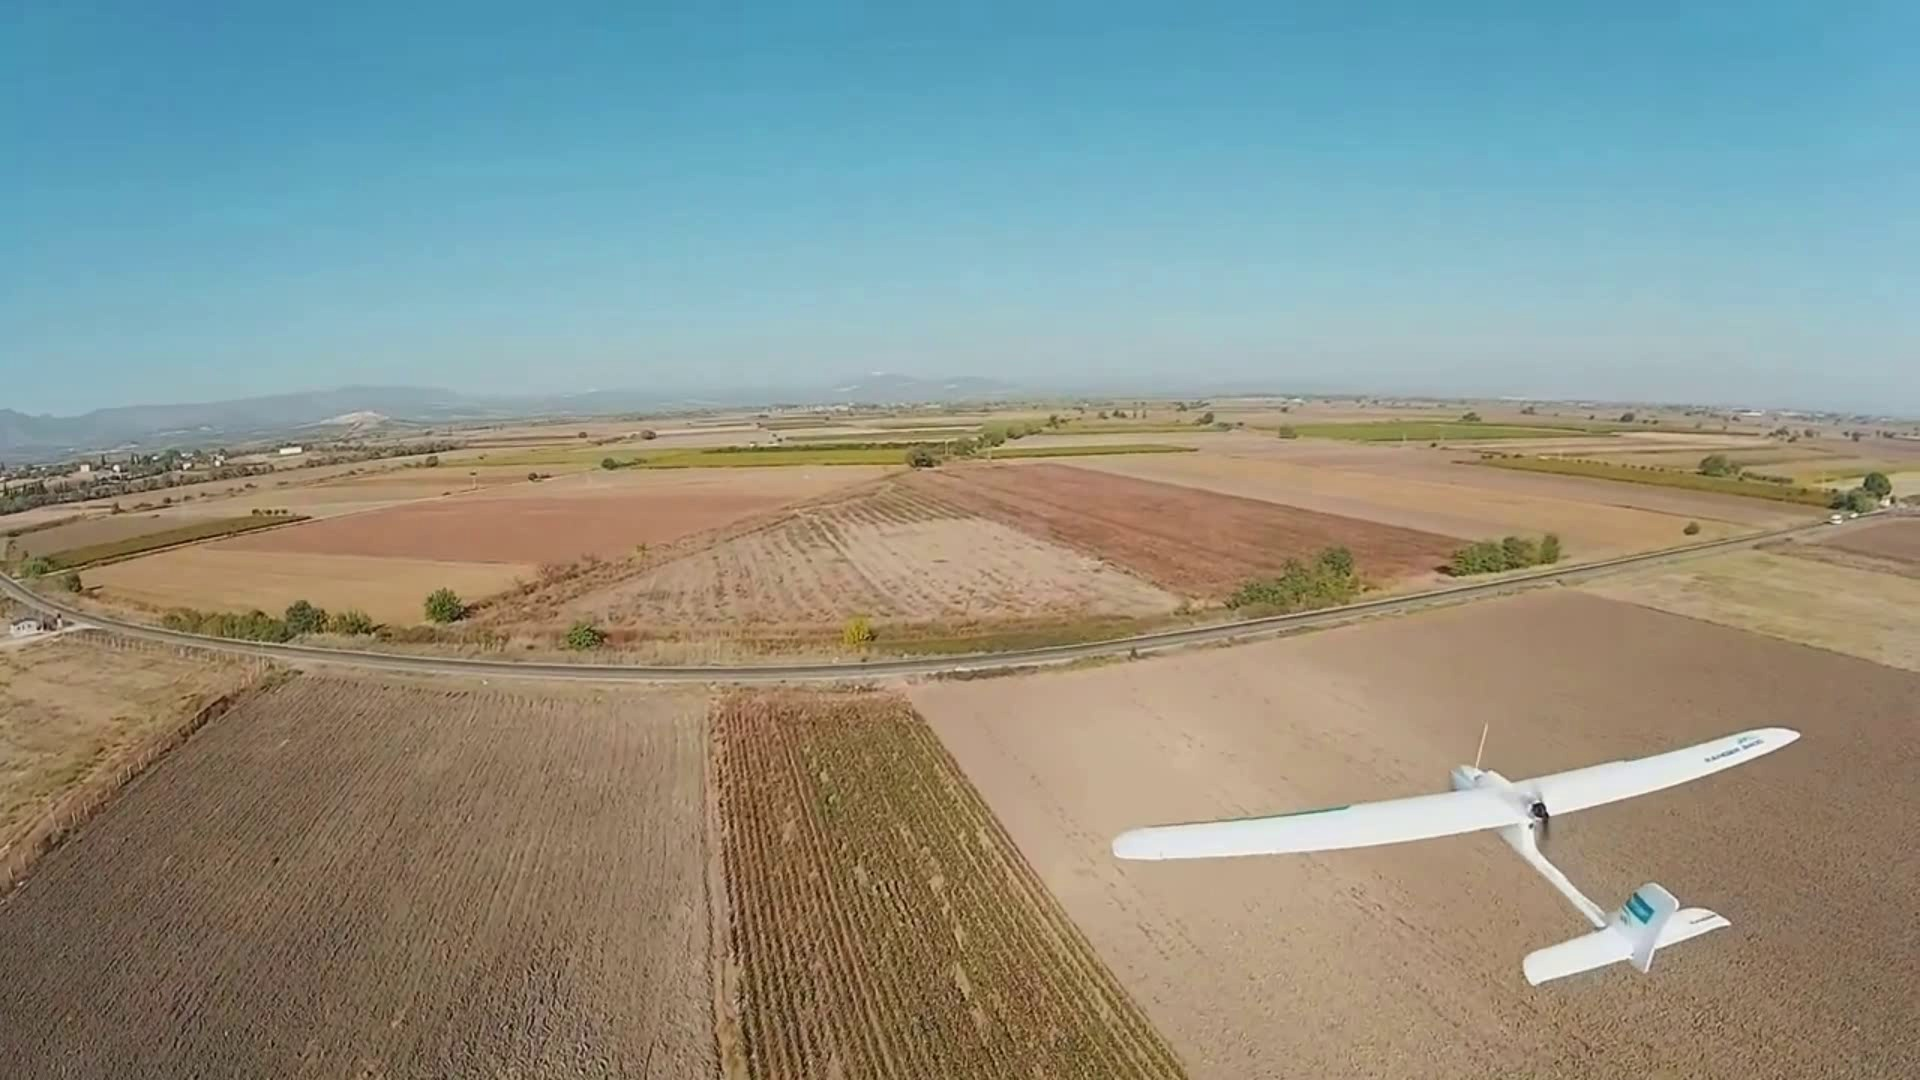airplane: (1115, 721, 1802, 973)
